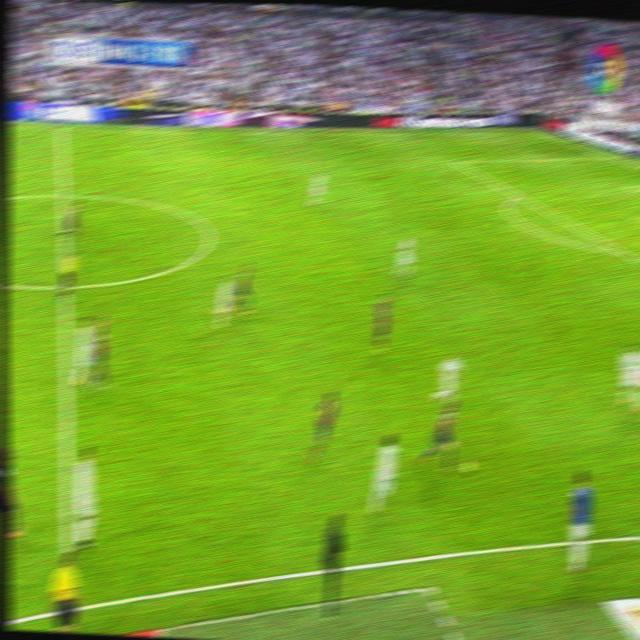corner: (532, 125, 545, 137)
halfcircle_top: (54, 181, 72, 207)
midline_top_intersection: (54, 122, 69, 135)
top_arc_area_intersection: (510, 186, 524, 202)
